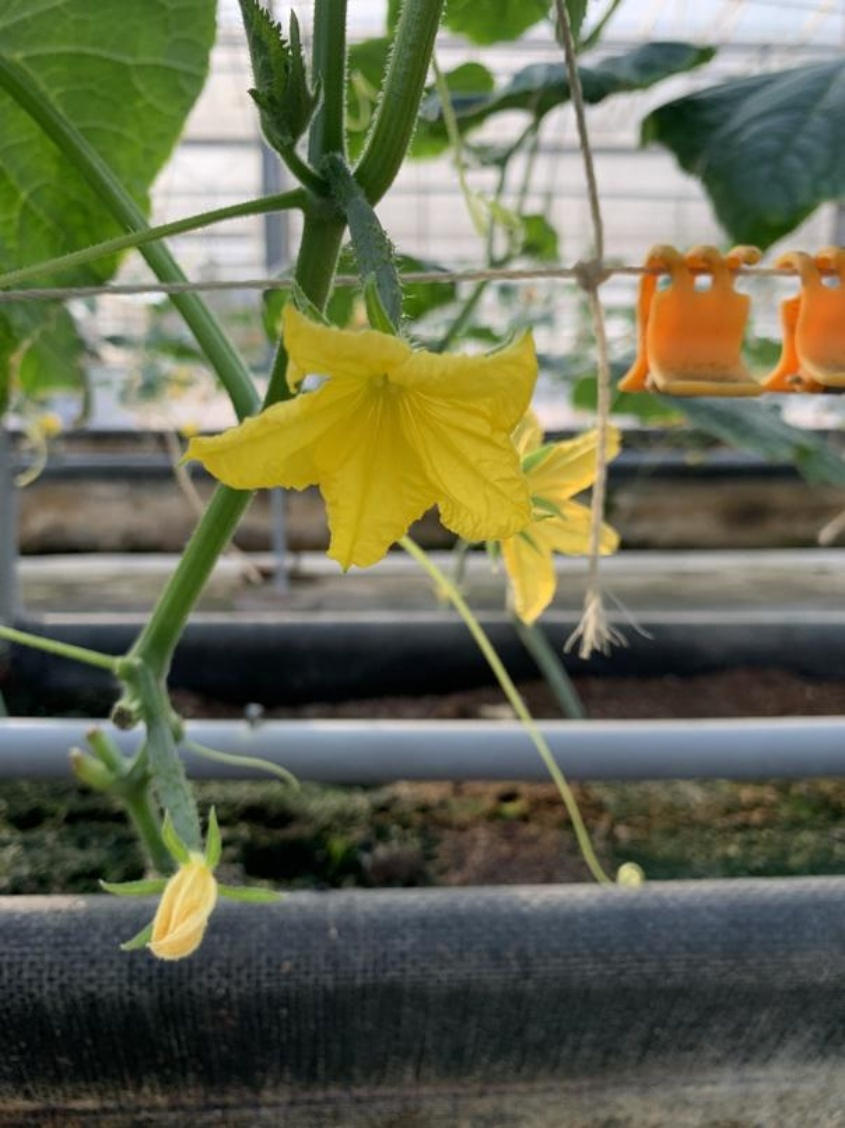flowering: (177, 176, 552, 569)
